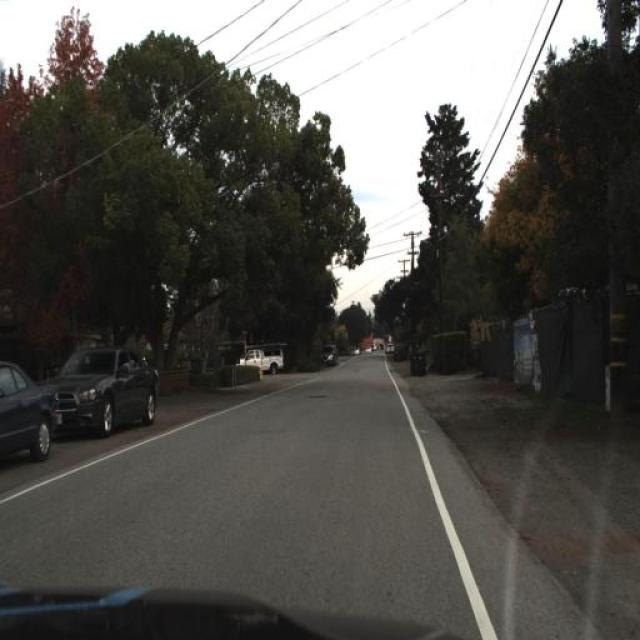car: (51, 346, 160, 436), (0, 359, 54, 469), (234, 340, 288, 378), (320, 342, 339, 366)
